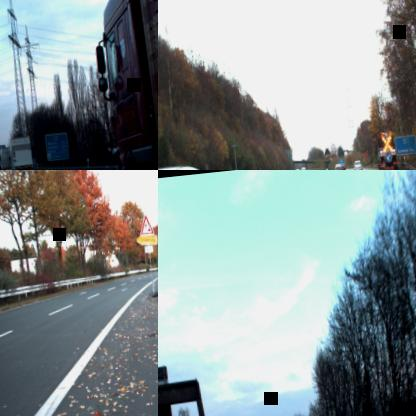CONSTRUCTION: (138, 212, 154, 235)
keep left: (384, 150, 392, 162)
